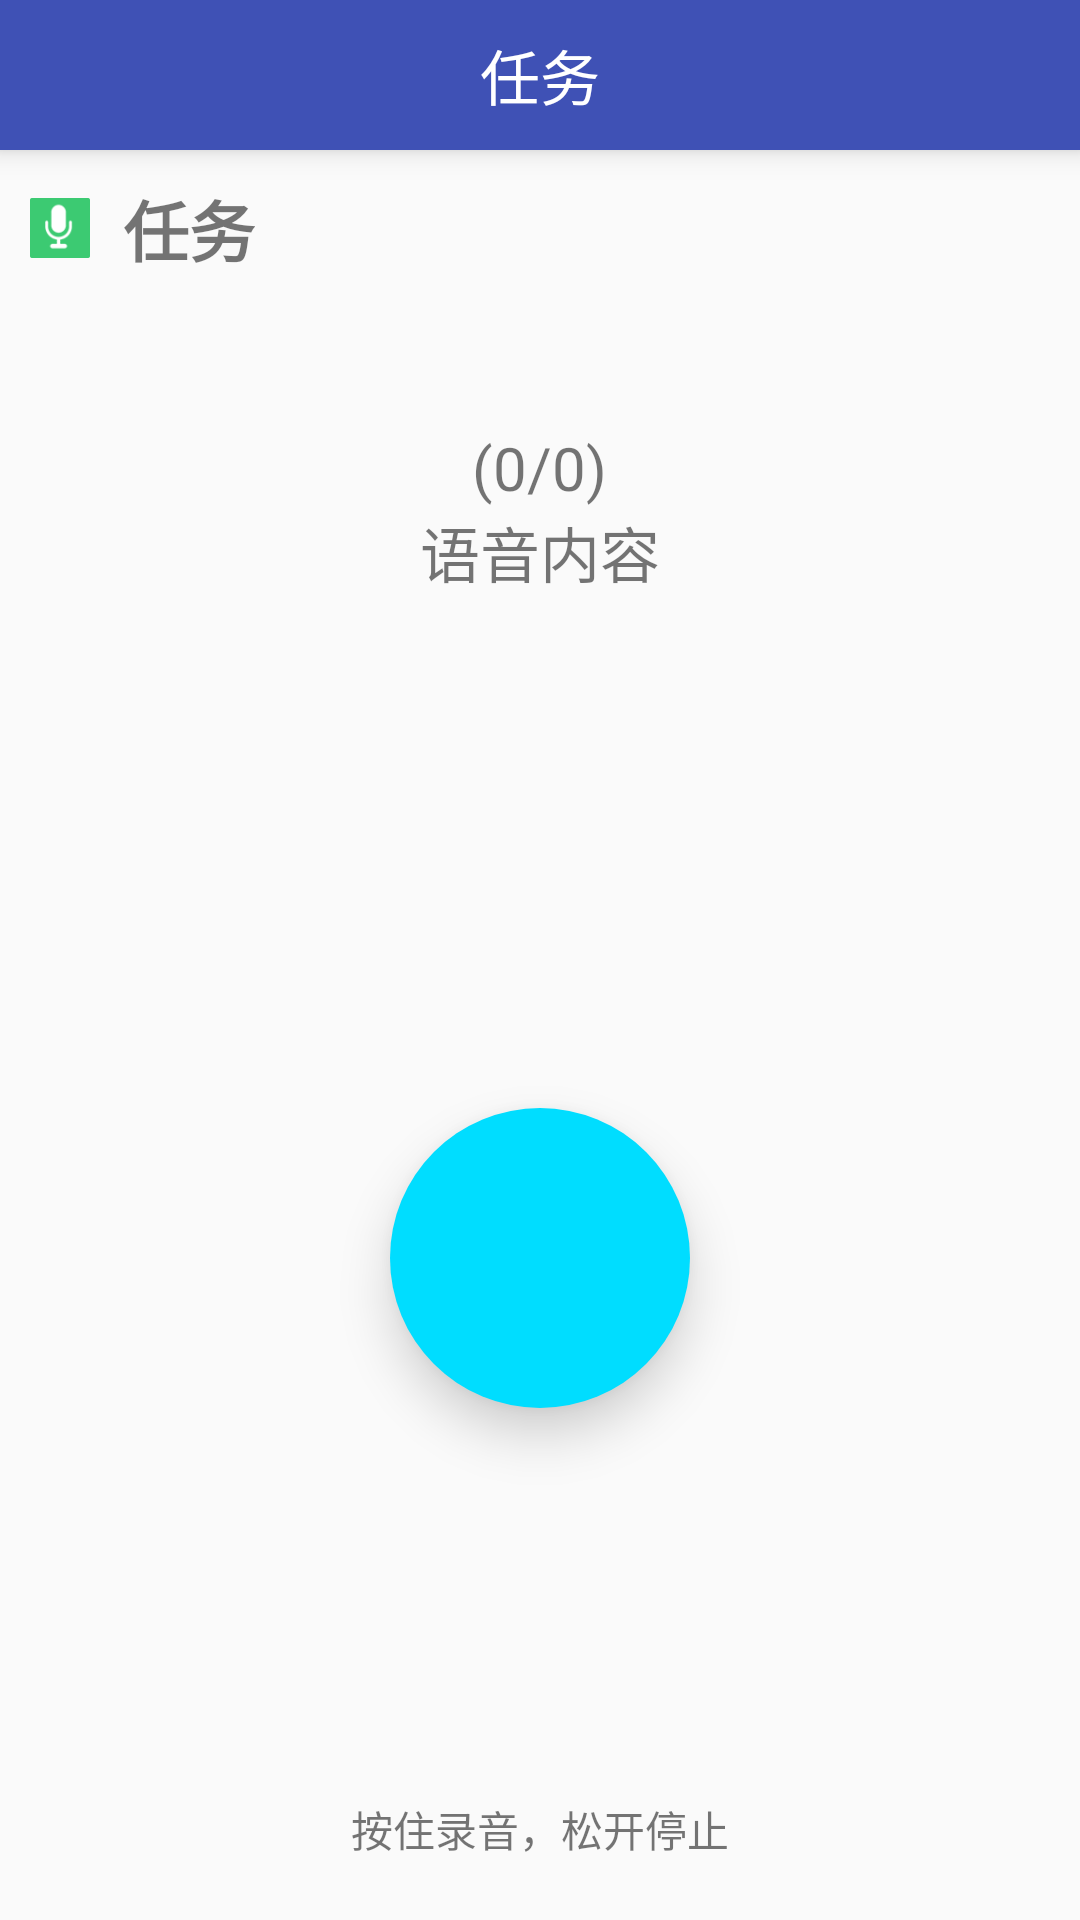

Named icons in this screenshot (1080px x 1920px) and their centers, (x=x, y=y):
voice: (x=60, y=228)
